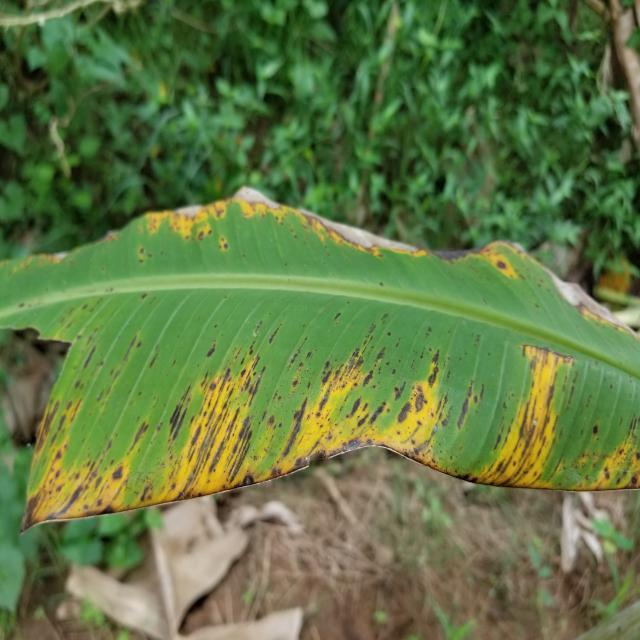Early_rust: (0, 183, 640, 568)
